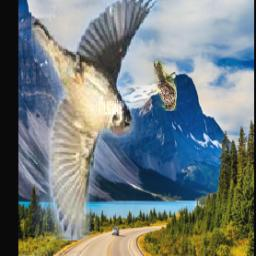Sparrow: (31, 0, 160, 242), (153, 62, 176, 112)
